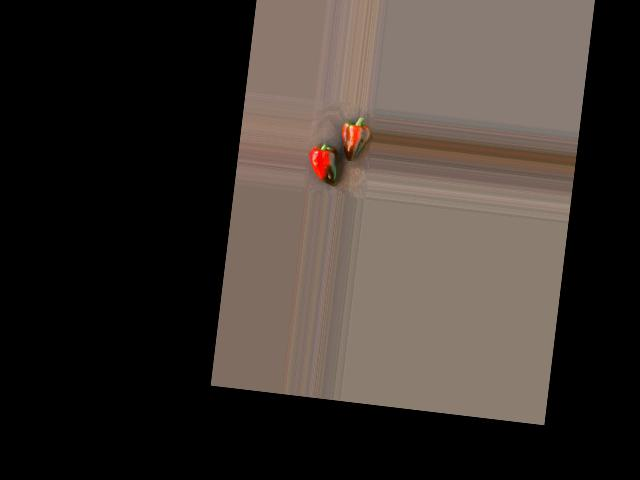bell_pepper: (304, 128, 344, 189)
